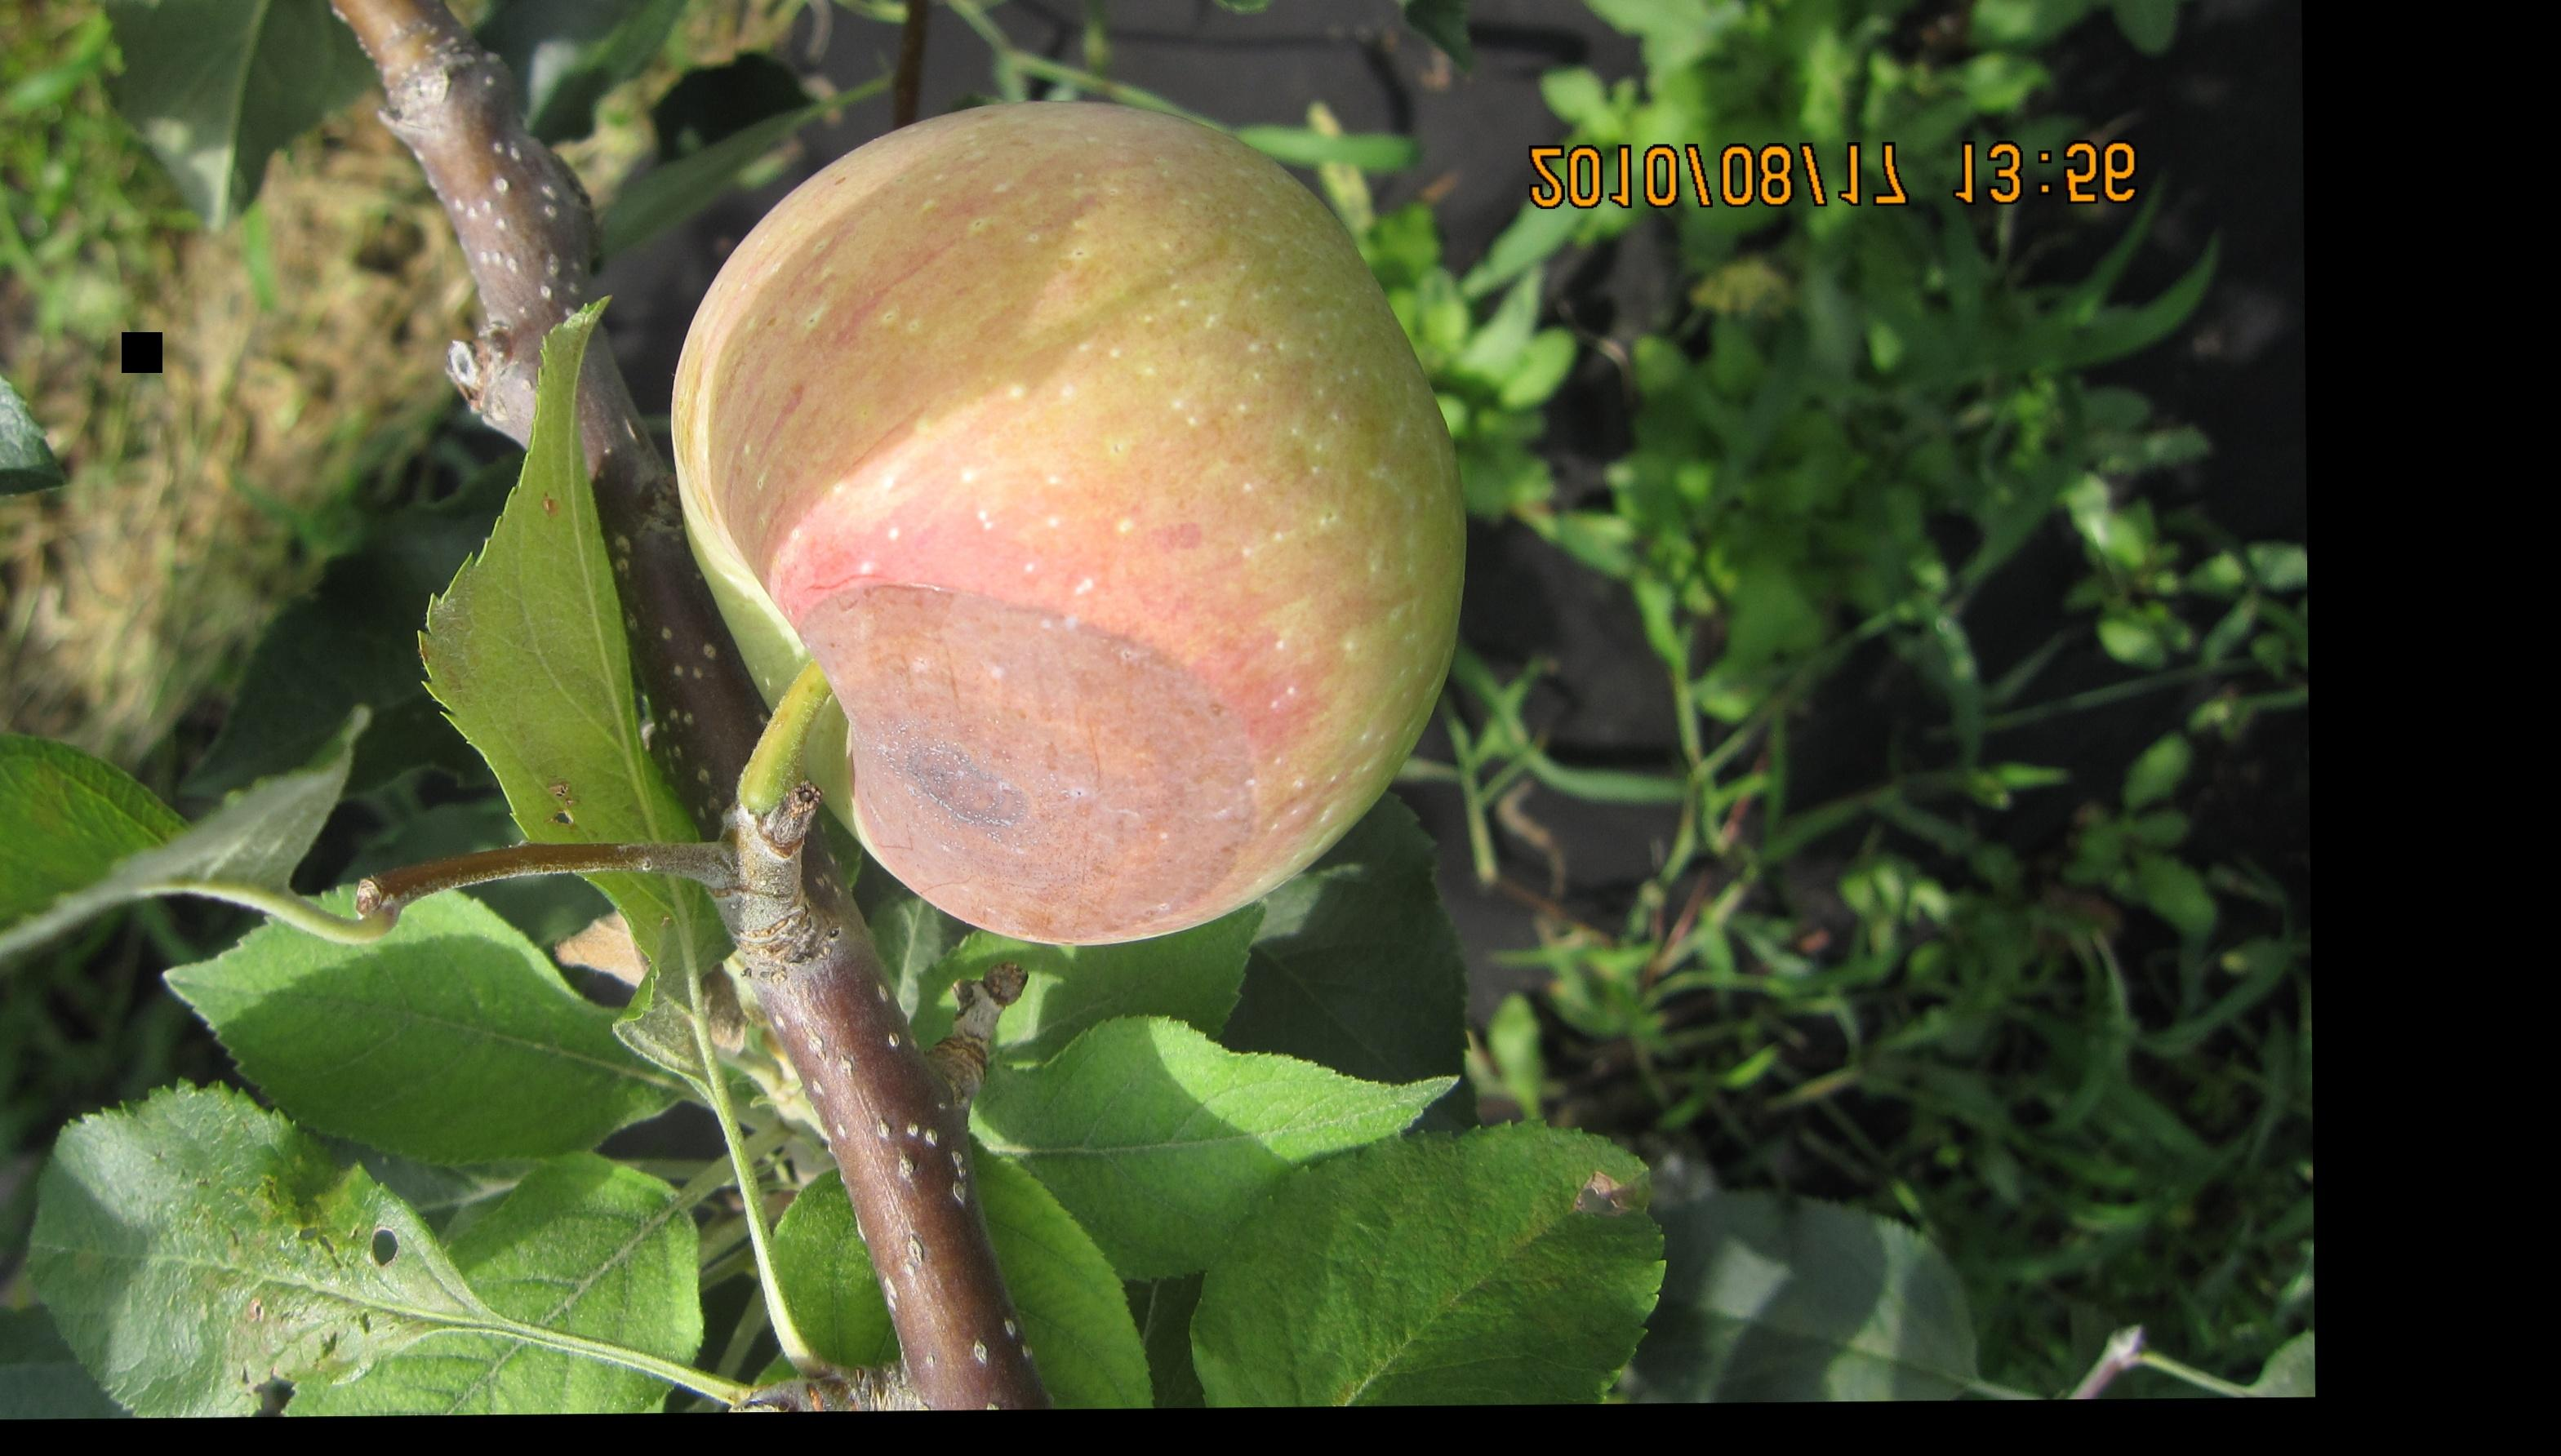rotten apple: (672, 76, 1467, 944)
